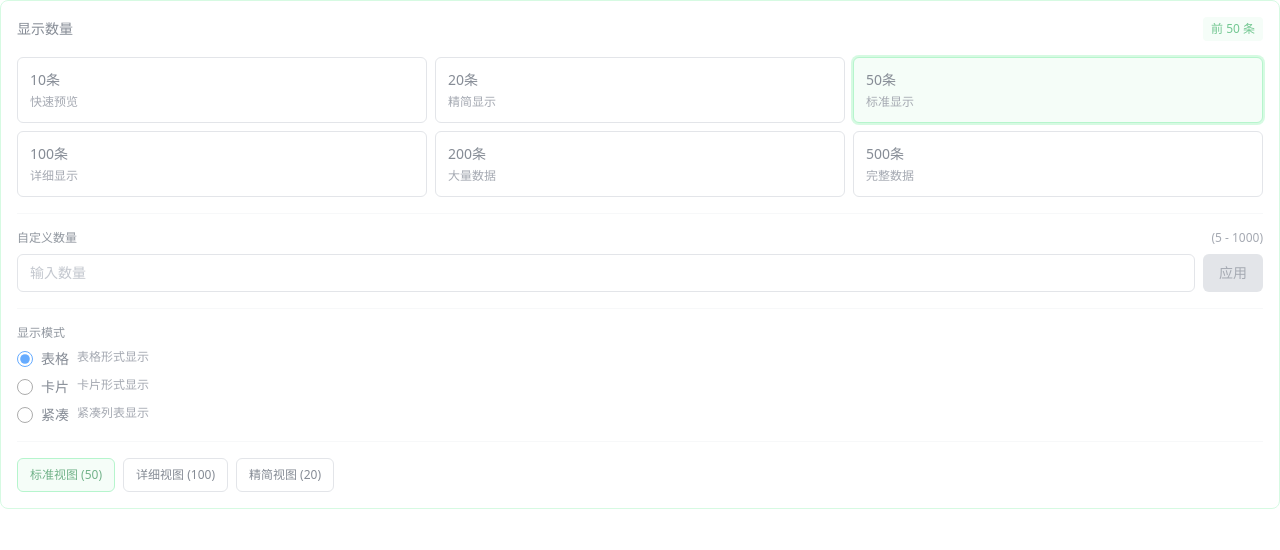
Scenario: HotWordLimitSelector › 自定义数量功能 › 应该验证自定义数量的有效性
Type "75" into the number field with id "custom-limit".
click(606, 273); type("75")  # box [17,254,1195,292]
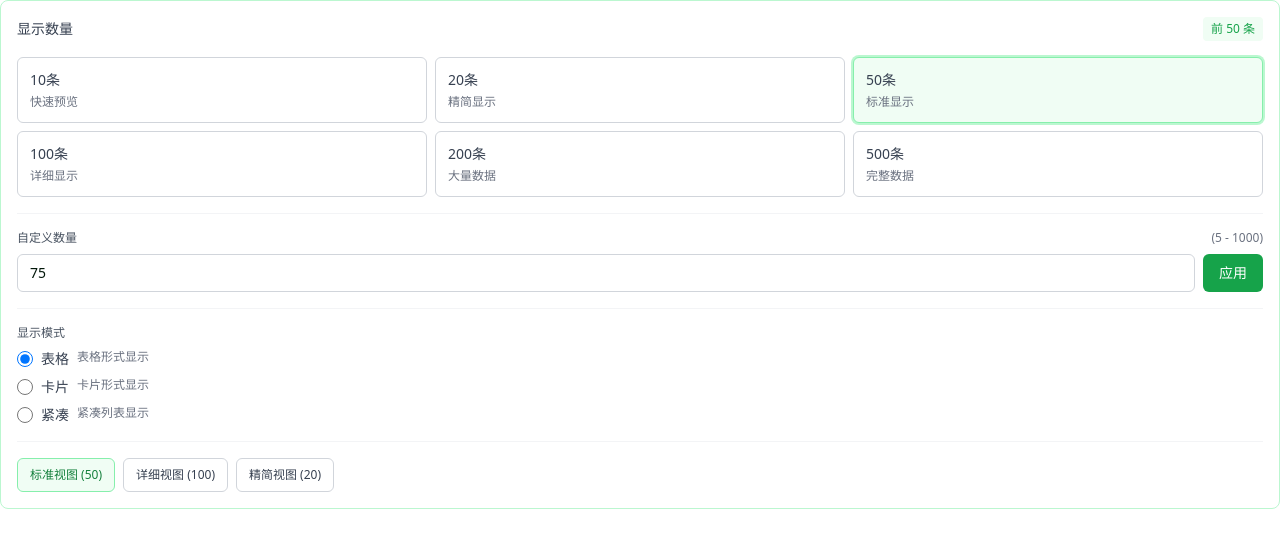
Now the button with class "apply-custom-button" is enabled, box [1203,254,1263,292]
Replace the text in the number field with id "custom-limit" with "2000" at {"x": 606, "y": 273}, box [17,254,1195,292]
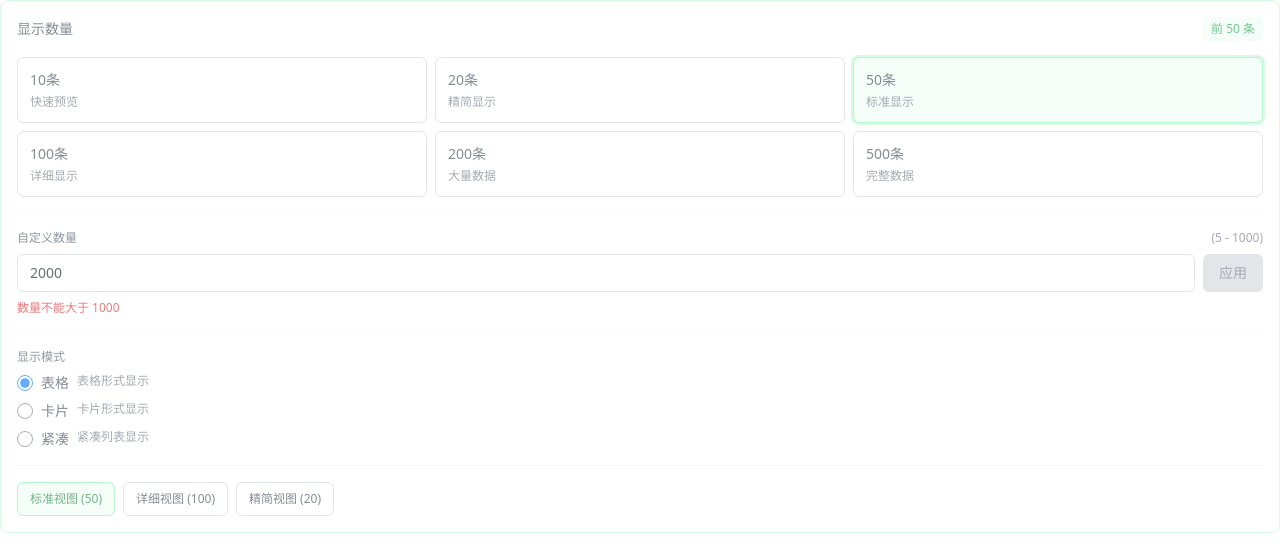
Now the text "数量不能大于 1000" is shown, box [17,300,120,316]
Now the text with class "error-message" shows "数量不能大于", box [17,299,120,316]
